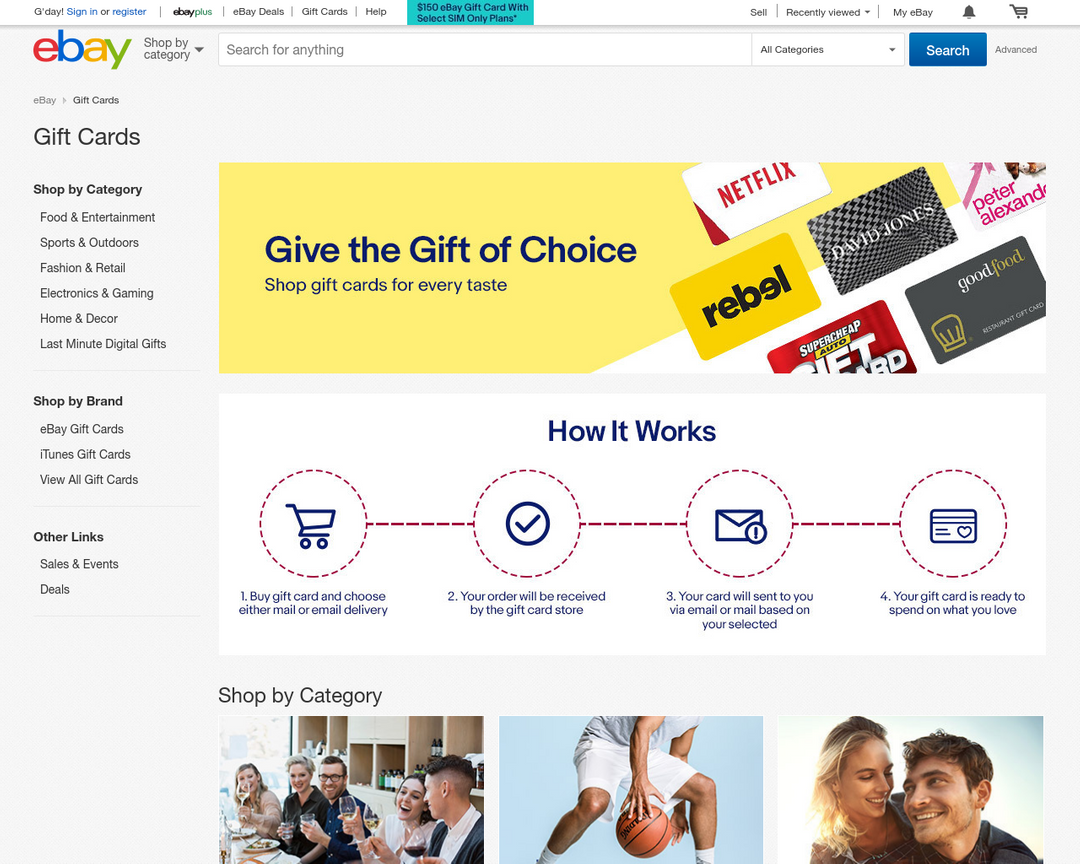Ebay: (31, 27, 140, 73)
